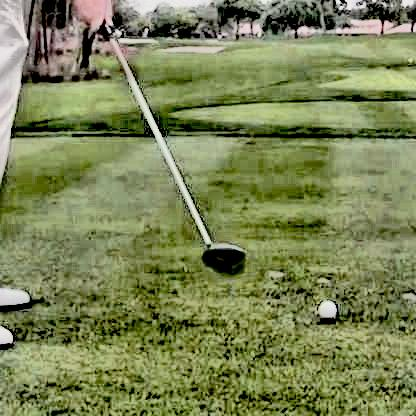golfball: (314, 296, 335, 317)
